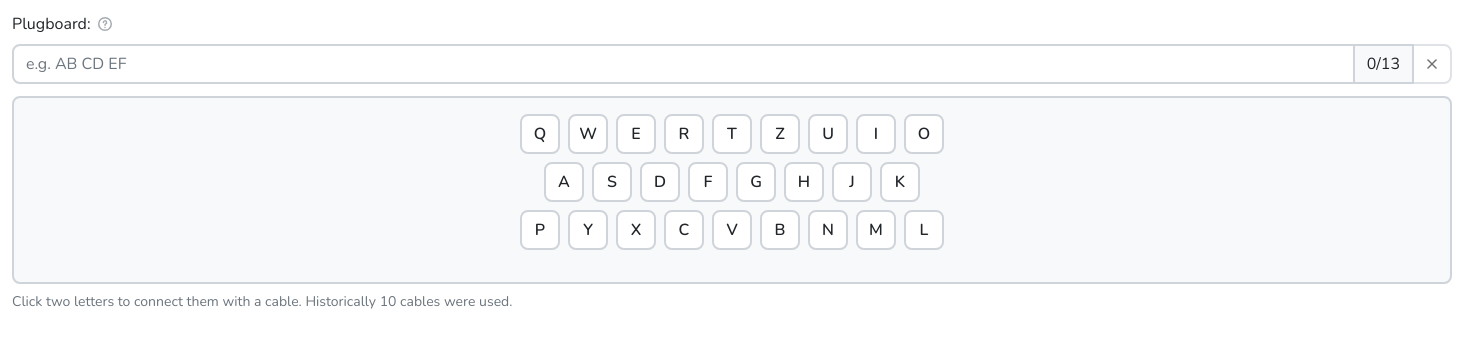
Test: Plugboard sockets › connects two clicked sockets and draws a cable
Click the button "A": (564, 182) [544,162,584,202]
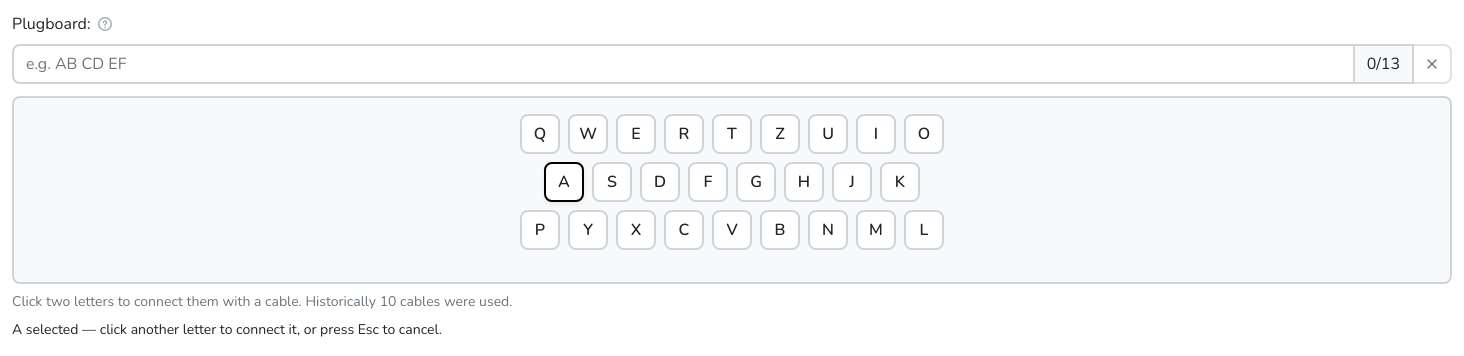
Check: the text "A selected" is shown, box [12,320,442,339]
Click the button "Q": (540, 134) [520,114,560,154]
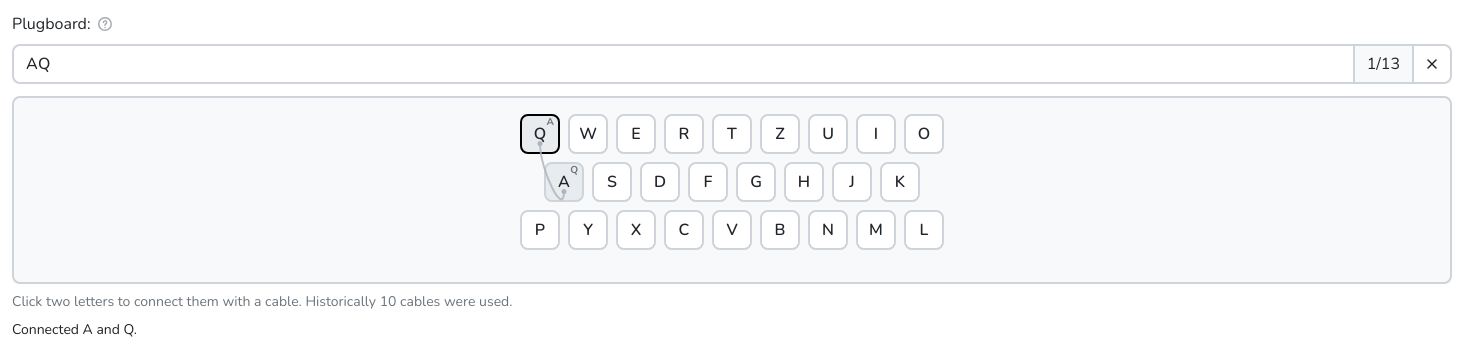
Check: the field labelled "Plugboard:" holds "AQ", box [12,44,1355,84]
Check: the text "Connected A and Q." is shown, box [12,320,137,339]
